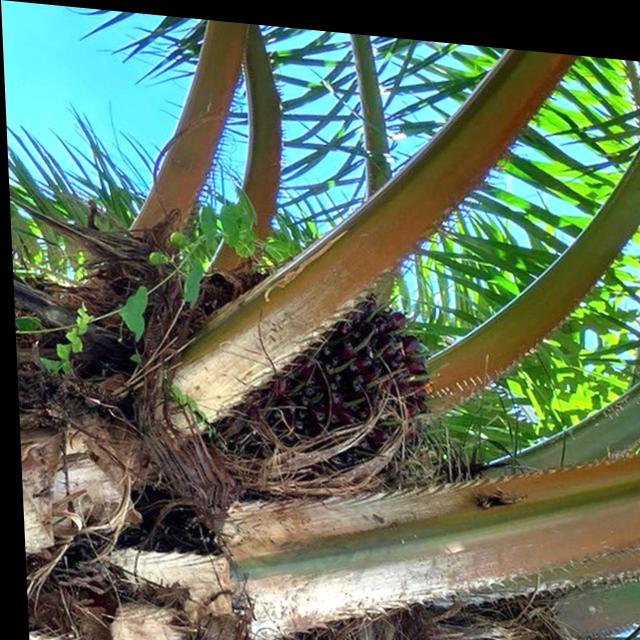ripe: (227, 281, 434, 486)
